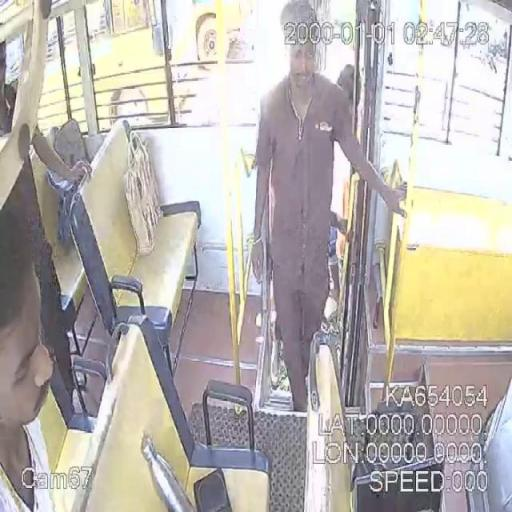persona: (249, 1, 408, 413), (0, 152, 59, 511)
